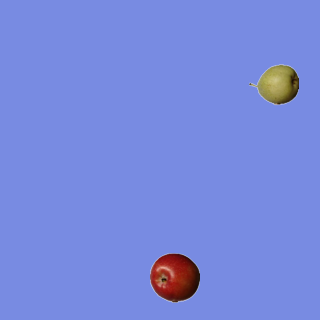Apple Braeburn: (149, 252, 199, 302)
Pear: (248, 59, 298, 109)
